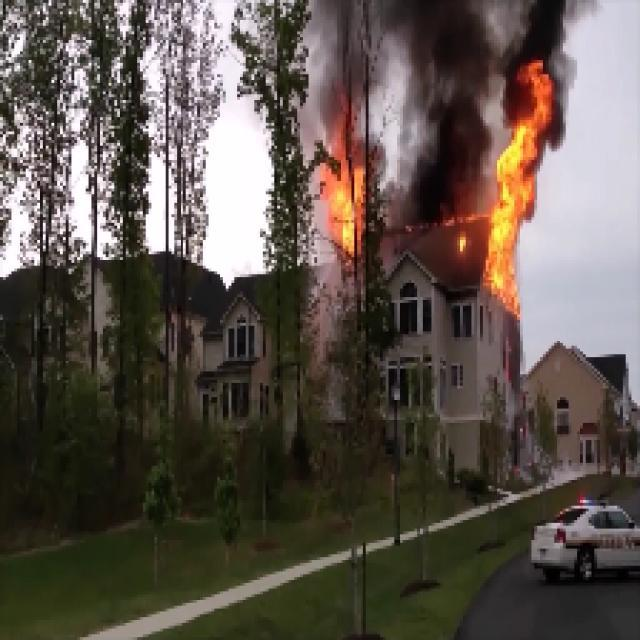Fire: (502, 65, 548, 308), (314, 136, 368, 259)
Smoke: (394, 0, 489, 217), (520, 1, 566, 58)
